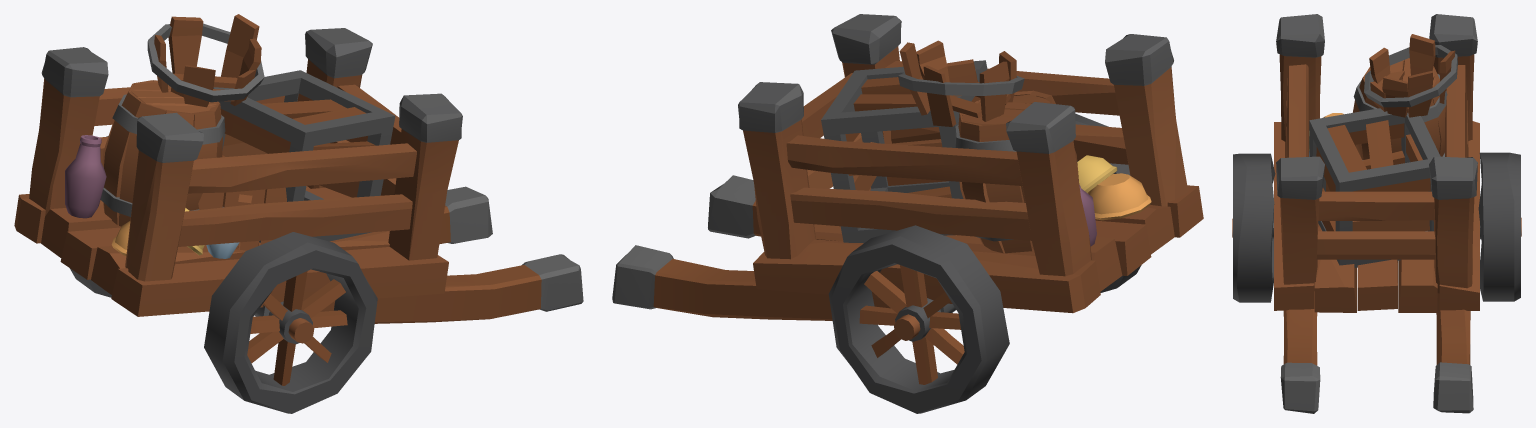
The model's file is Wagon_G.fbx.
The picture shows the model from 3 angles, left to right: view 1: azimuth 30°, elevation 25°; view 2: azimuth 150°, elevation 25°; view 3: azimuth 270°, elevation 25°; orthographic projection. The views are drawn at different scales.
Parts seen in each view (by area): view 1: Wagon_G; view 2: Wagon_G; view 3: Wagon_G.
Part boxes in pixels (left/top/right/bottom): Wagon_G: left=14, top=14, right=583, bottom=413; Wagon_G: left=612, top=14, right=1203, bottom=413; Wagon_G: left=1232, top=14, right=1521, bottom=413.
Size of the model in its own units: 252 by 157 by 167.
